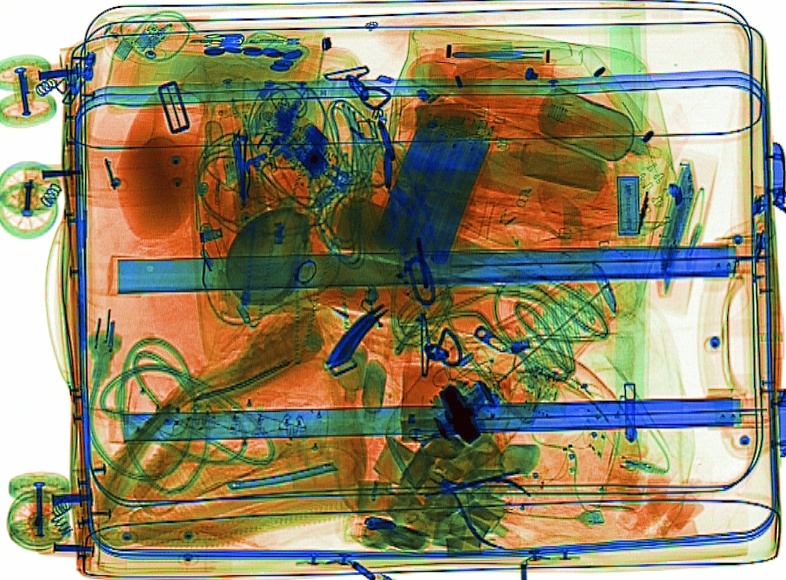powerbank: (367, 110, 497, 270)
